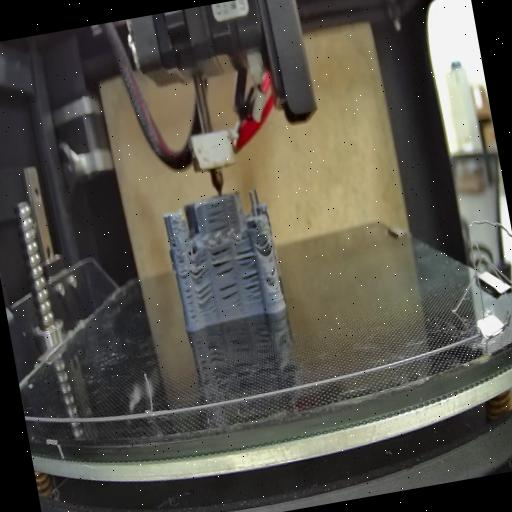cracks: (177, 255, 197, 325), (202, 199, 230, 234), (208, 244, 236, 277), (216, 279, 242, 310), (240, 270, 262, 300), (193, 280, 216, 306), (234, 244, 256, 268), (188, 260, 209, 280), (258, 231, 275, 254), (169, 234, 181, 251), (267, 262, 277, 278)
